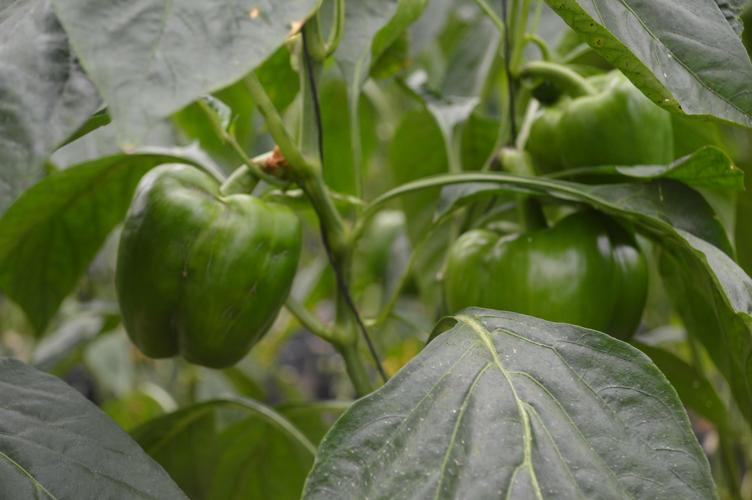BellPepper: (96, 165, 291, 383), (444, 208, 644, 361), (529, 62, 683, 202)
